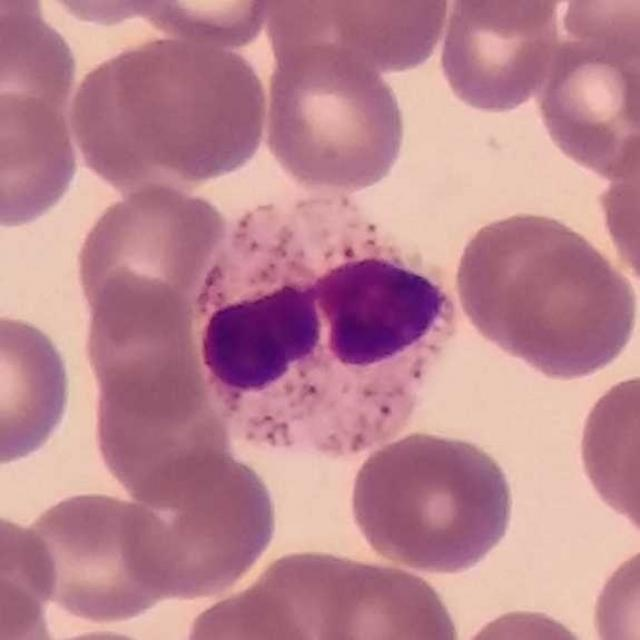Neutrophil: (195, 185, 470, 468)
RBC: (115, 444, 282, 602), (345, 426, 519, 576), (111, 31, 272, 184), (71, 180, 227, 332), (258, 42, 411, 196), (16, 486, 178, 628), (494, 231, 639, 383), (455, 207, 604, 348), (88, 369, 236, 508), (78, 270, 209, 426), (230, 543, 420, 639), (531, 22, 640, 180), (65, 39, 179, 188), (434, 0, 563, 117), (309, 553, 463, 640), (0, 309, 77, 471), (0, 87, 82, 231), (571, 365, 640, 535), (0, 8, 80, 136), (324, 0, 454, 72), (176, 584, 324, 640), (0, 508, 61, 636), (123, 0, 285, 48), (594, 127, 640, 294), (445, 602, 607, 640), (585, 540, 640, 640), (555, 0, 640, 59), (31, 0, 175, 29), (441, 0, 580, 30), (0, 574, 57, 640)
